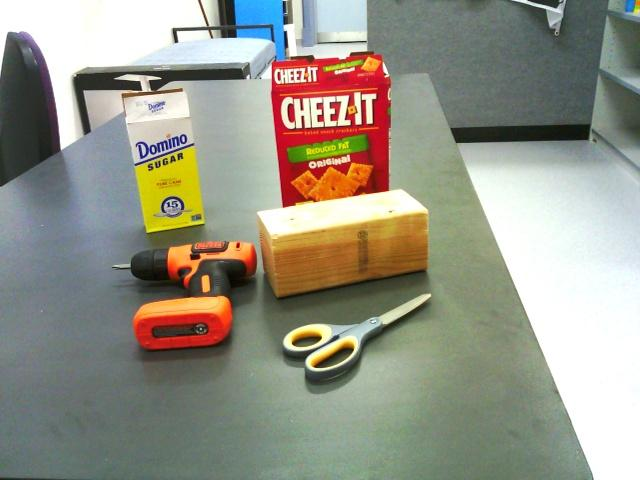003_cracker_box: (270, 54, 394, 205)
004_sugar_box: (128, 84, 196, 242)
035_power_drill: (110, 243, 255, 352)
036_wood_block: (257, 190, 432, 302)
037_scissors: (272, 292, 435, 384)
